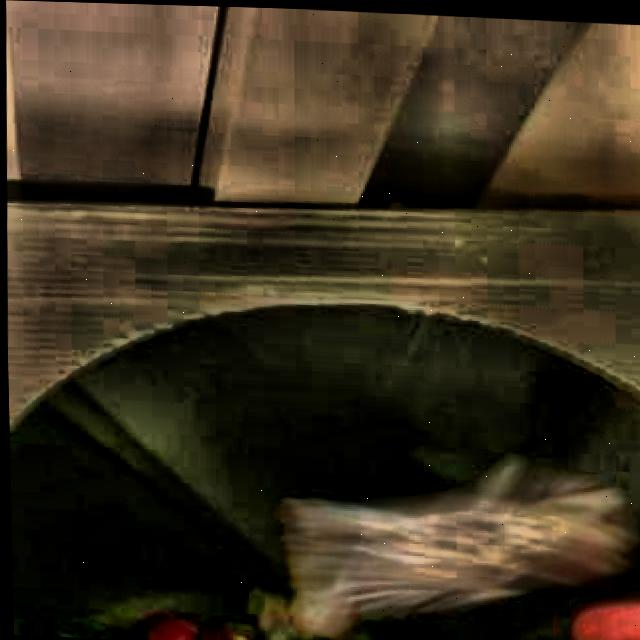metal: (285, 455, 631, 633)
